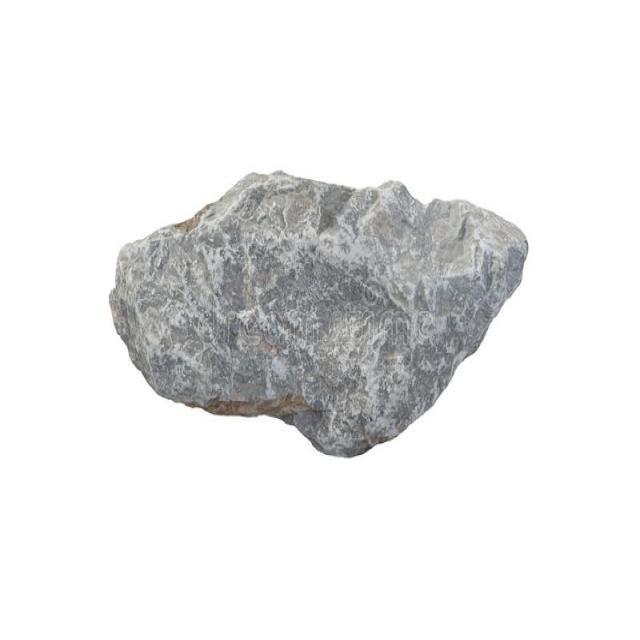Sedimentary: (87, 149, 535, 450)
